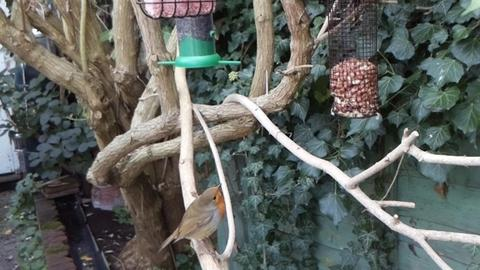robin: (156, 183, 225, 257)
